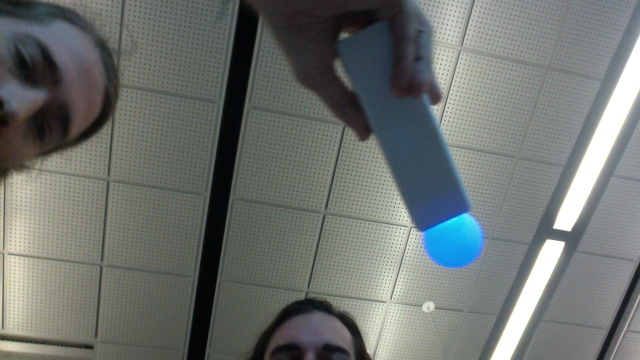wand: (423, 214, 483, 269)
